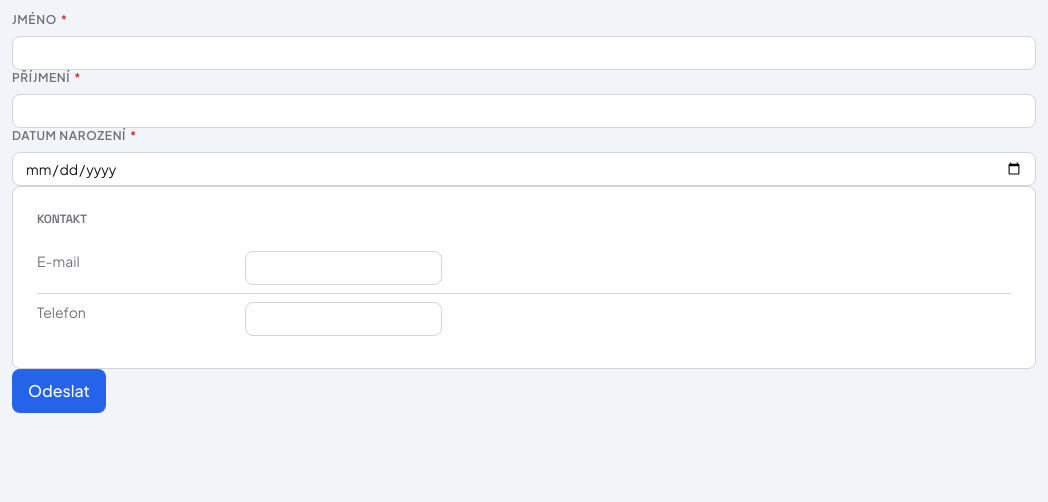
member registration form validation › shows required-field errors for every empty mandatory field after a submit attempt
Click the button "Odeslat": [59, 391] box [12,369,106,413]
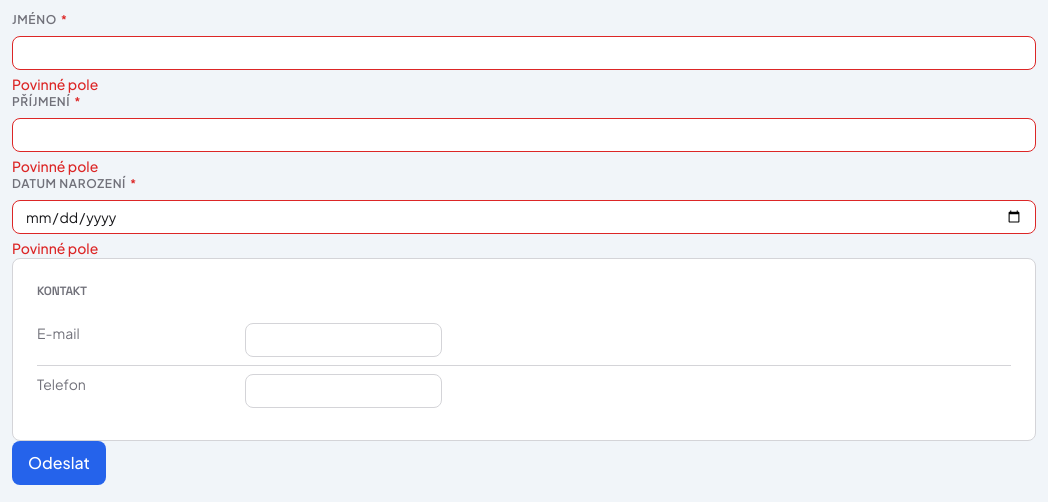
Check: the text "Povinné pole" is shown 3 times, box [12,75,98,93]; [12,157,98,175]; [12,239,98,257]
